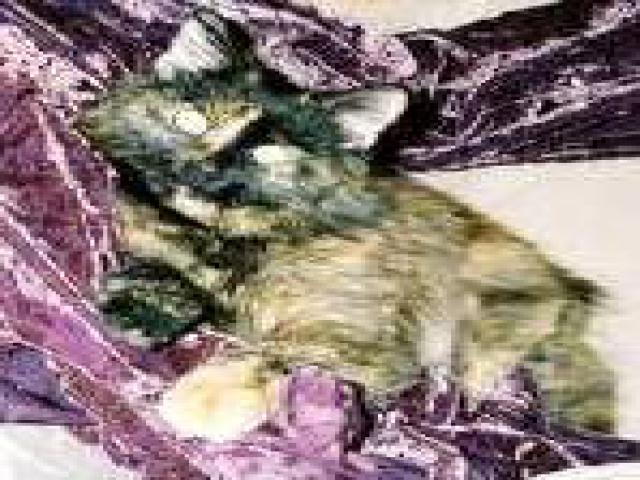cat: (95, 53, 611, 438)
